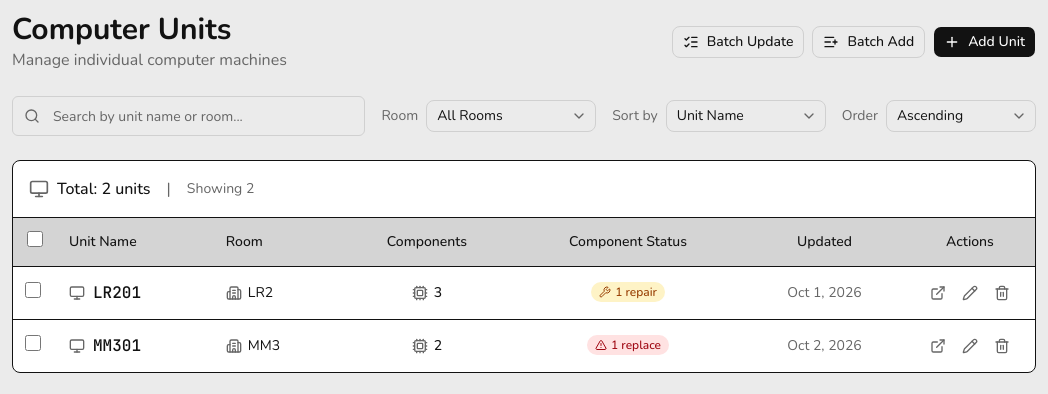
Scenario: UnitsClient batch delete › deselects a unit before deleting
Step 1. Click the checkbox named "Select LR201" → (33, 290), box [25, 282, 41, 298]
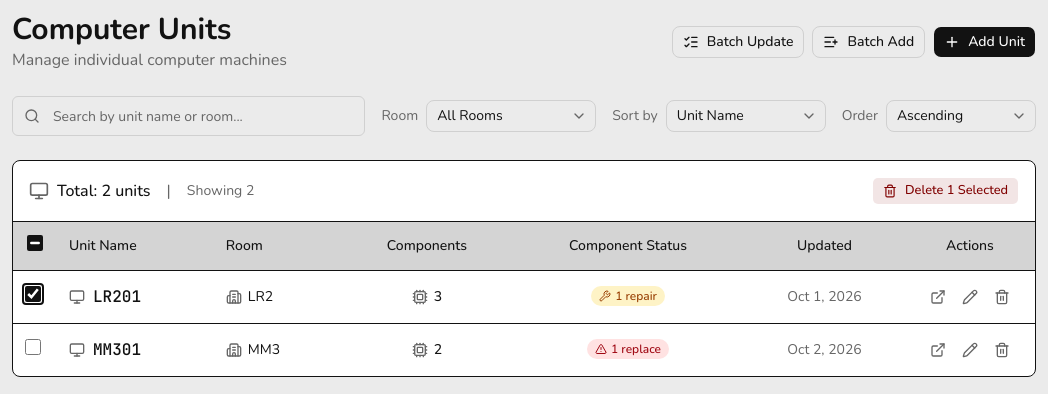
Step 2. Click the checkbox named "Select MM301" → (33, 347), box [25, 339, 41, 355]
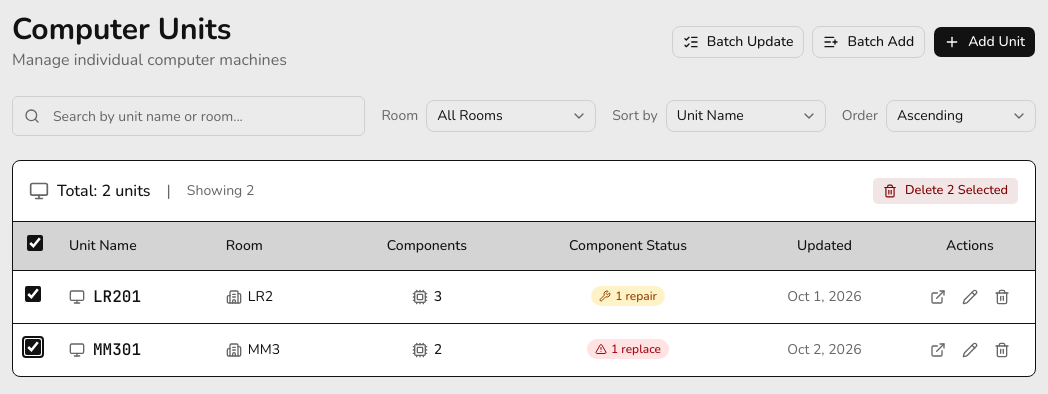
Step 3. Click the checkbox named "Select LR201" → (33, 294), box [25, 286, 41, 302]
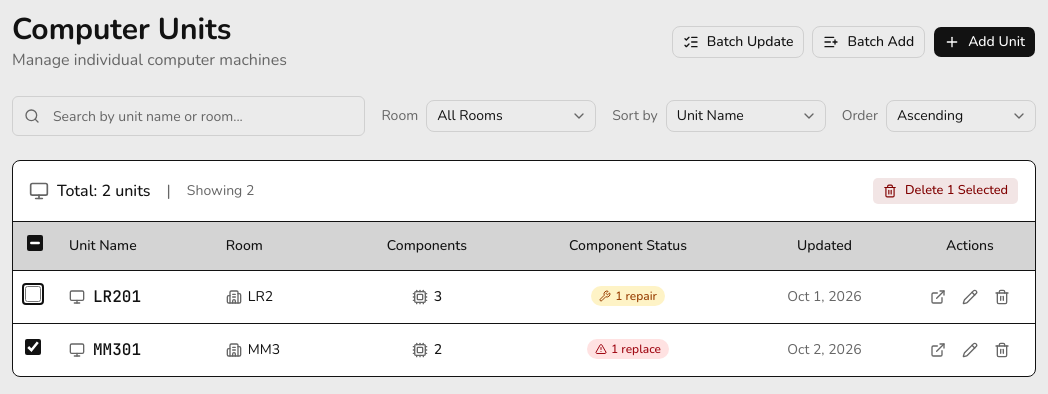
Check: the button "Delete 1 Selected" is shown, box [872, 177, 1019, 205]
